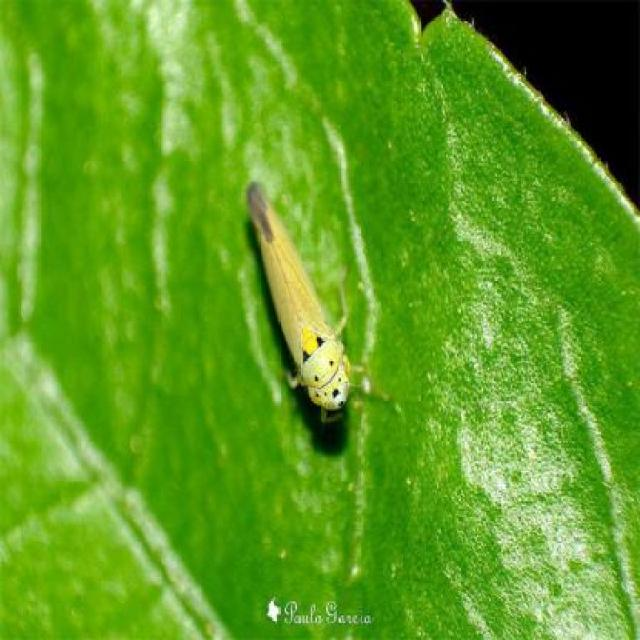green-leafhopper: (243, 182, 385, 427)
